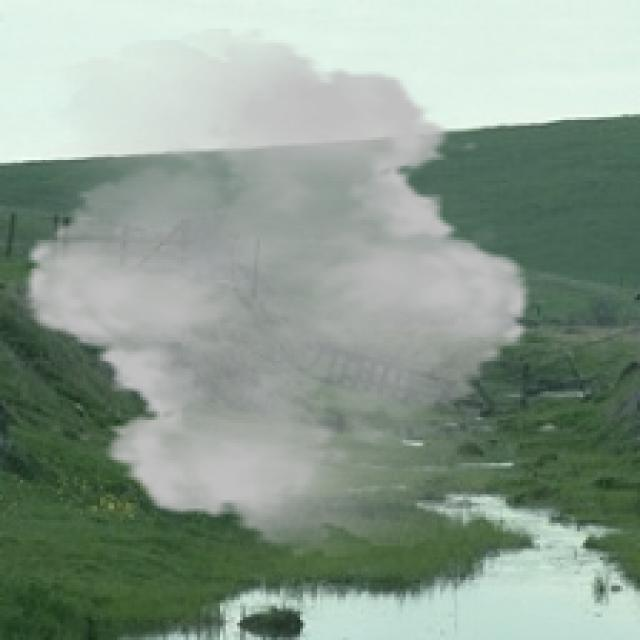smoke: (3, 29, 551, 557)
